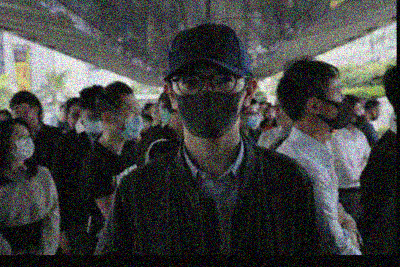with_mask: (175, 67, 245, 137), (319, 83, 355, 131), (112, 103, 144, 139), (8, 129, 35, 162), (83, 111, 104, 135), (352, 105, 366, 131), (245, 110, 260, 129)
without_mask: (12, 103, 34, 127)
